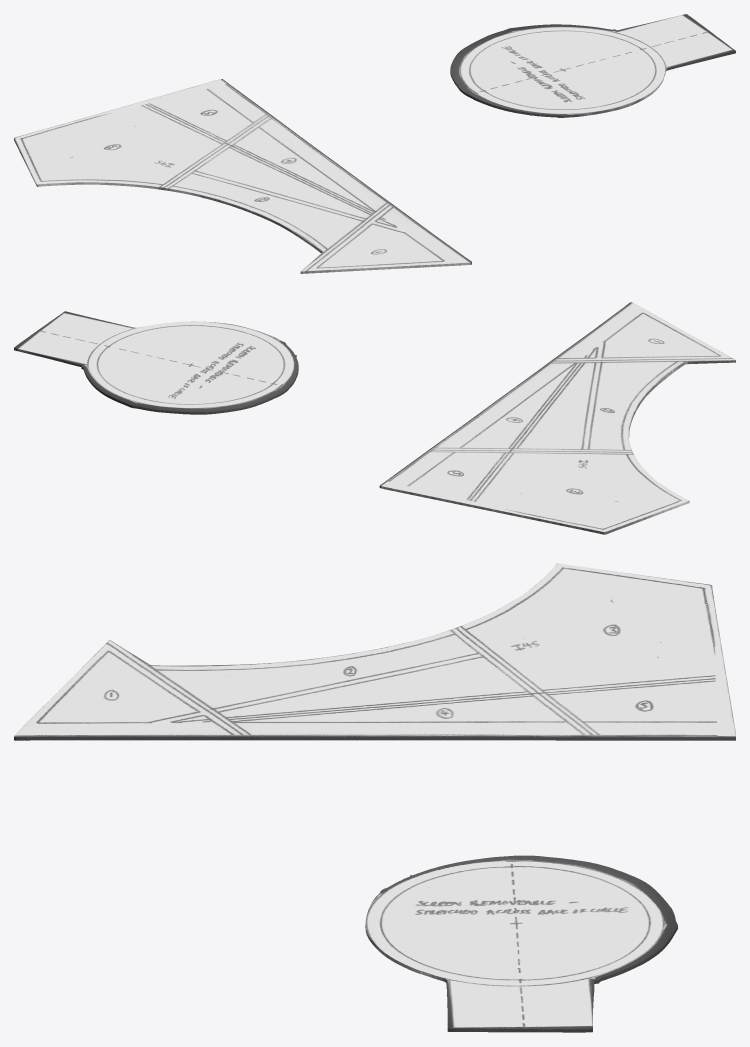
The model's file is bigflat.fbx.
3 renders of one model, top to bottom at view 1: azimuth 30°, elevation 25°; view 2: azimuth 150°, elevation 25°; view 3: azimuth 270°, elevation 25°, orthographic. The views are drawn at different scales.
Visible parts, largest first — view 1: path3778, path3756; view 2: path3778, path3756; view 3: path3778, path3756.
Boxes of the visible parts, <box> form: path3778: <box>14,79,471,273</box>; path3756: <box>450,14,735,117</box>; path3778: <box>379,302,735,534</box>; path3756: <box>14,311,298,414</box>; path3778: <box>14,563,735,740</box>; path3756: <box>365,855,677,1032</box>.
Bounding box in the file's own units: 30.26 × 0.1 × 19.82.
2 materials, 2 textured.
